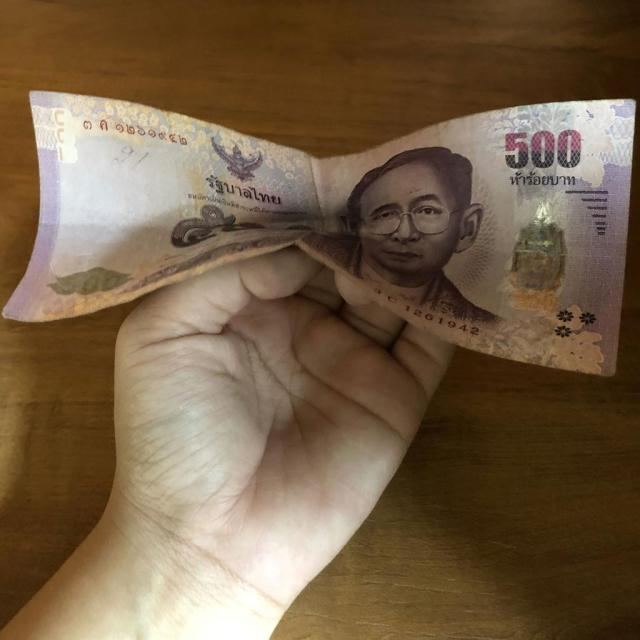THAI500: (1, 91, 636, 379)
